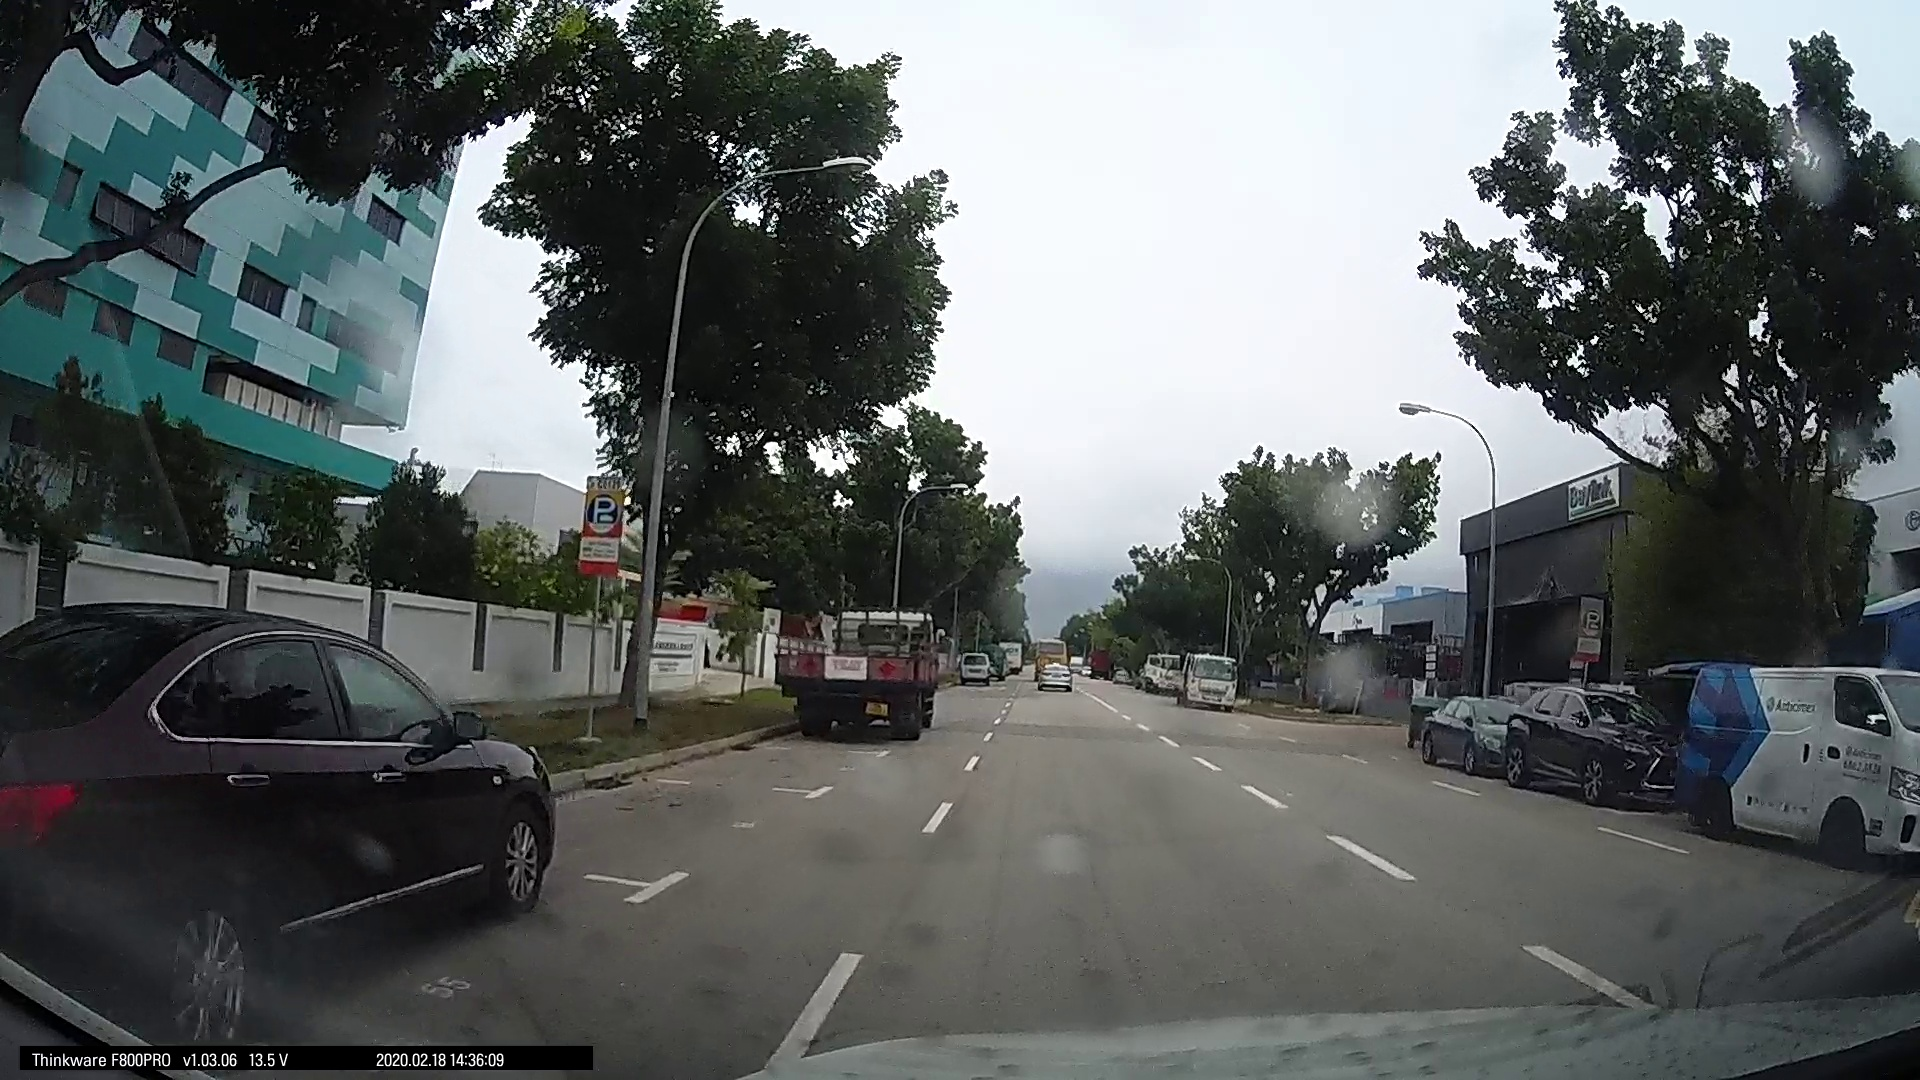Heavy Vehicle: (785, 604, 943, 741)
Light Vehicle: (3, 603, 562, 1010), (1658, 658, 1919, 862), (1501, 680, 1685, 804), (1416, 688, 1513, 777), (1174, 650, 1234, 707), (1031, 647, 1073, 688), (953, 645, 996, 684)
